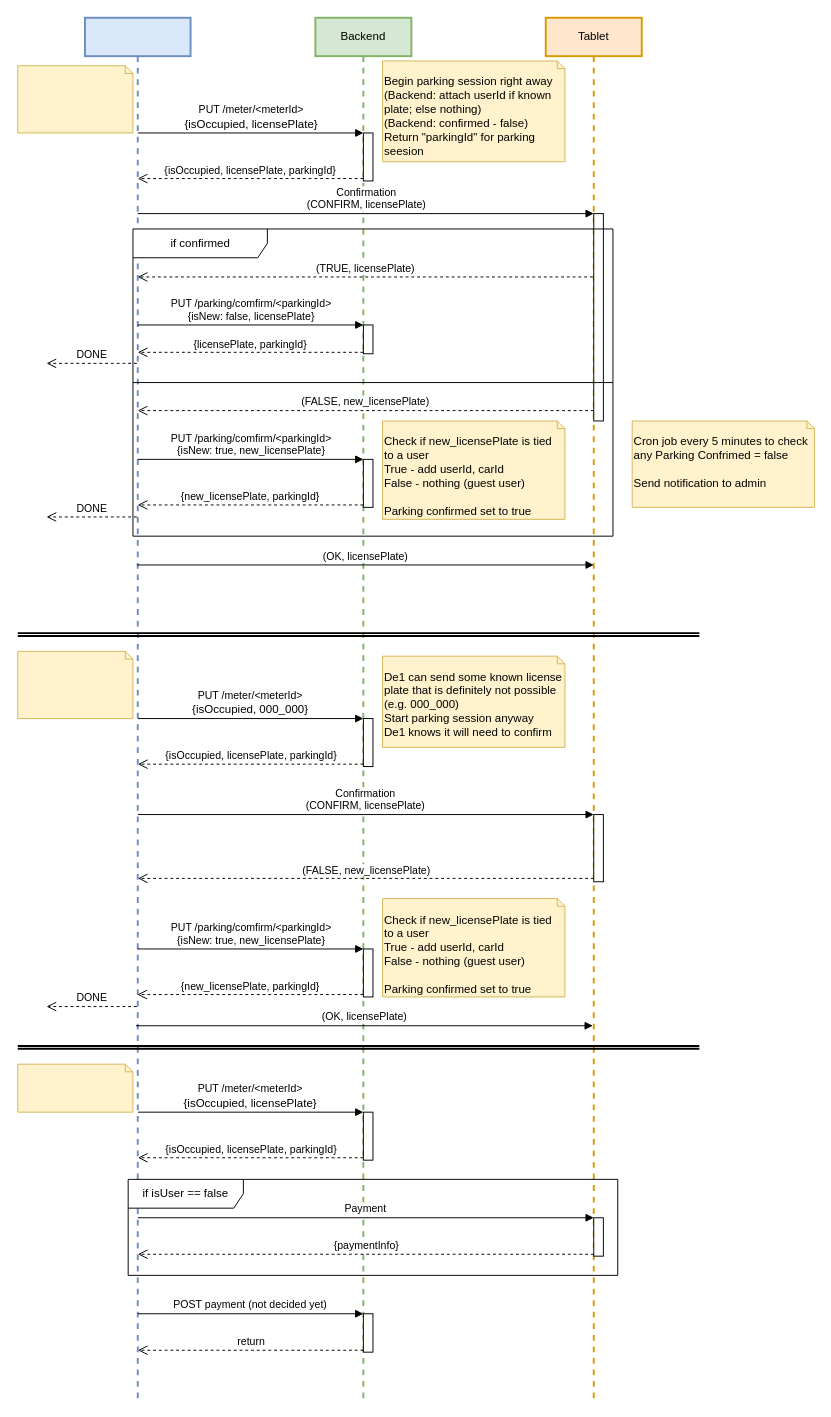
Image size: 831x1417. Some labels were removed from this diagram. Here are the shapes that lost their labels. From the top down, the centre of each, then its label:
At point 75,99: "BEGIN PARKING Any license plate recognized".
At point 75,684: "BEGIN PARKING Cannot regonize any license plate".
At point 137,708: "DE1SoC".
At point 75,1087: "LEAVE PARKING (incomplete)".
